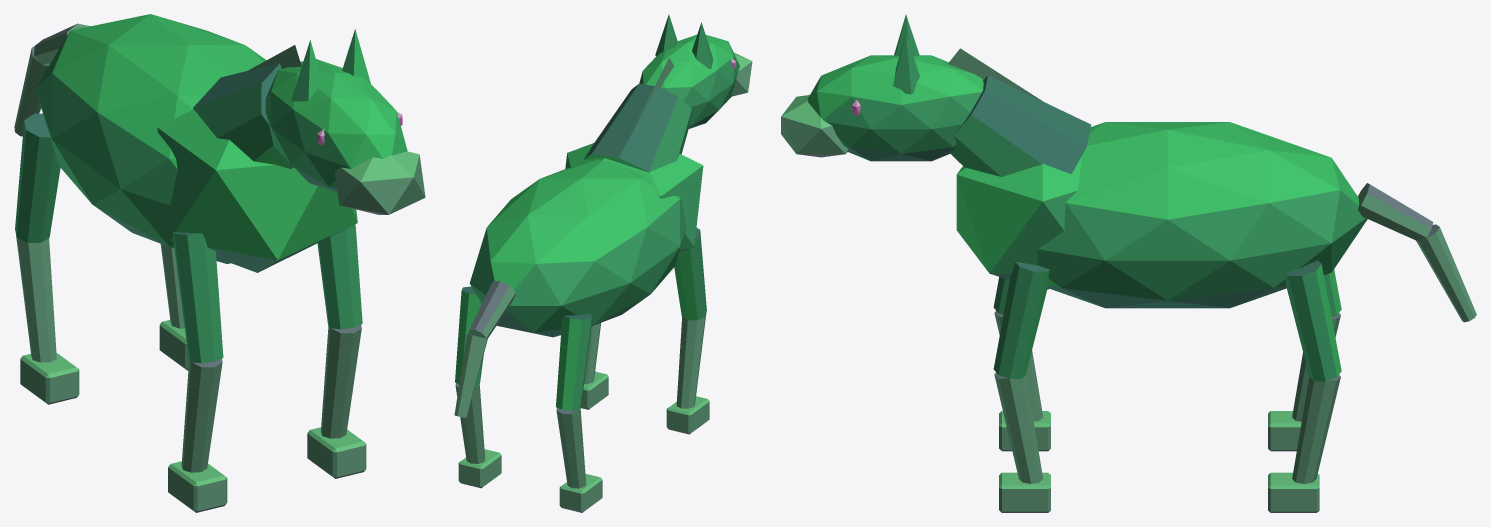
The model's file is creature_horse_contact_a_v01.glb.
3 views of the same model, side by side, from view 1: azimuth 30°, elevation 25°; view 2: azimuth 150°, elevation 25°; view 3: azimuth 270°, elevation 25° (orthographic). The views are drawn at different scales.
Parts seen in each view (by area): view 1: GEO_creature_horse_contact_a_v01; view 2: GEO_creature_horse_contact_a_v01; view 3: GEO_creature_horse_contact_a_v01.
Boxes of the visible parts, bbox=[...] form: GEO_creature_horse_contact_a_v01: bbox=[14, 14, 425, 512]; GEO_creature_horse_contact_a_v01: bbox=[454, 14, 752, 512]; GEO_creature_horse_contact_a_v01: bbox=[781, 14, 1476, 512].
Size of the model in its own units: 0.913 by 2.12 by 2.95.
